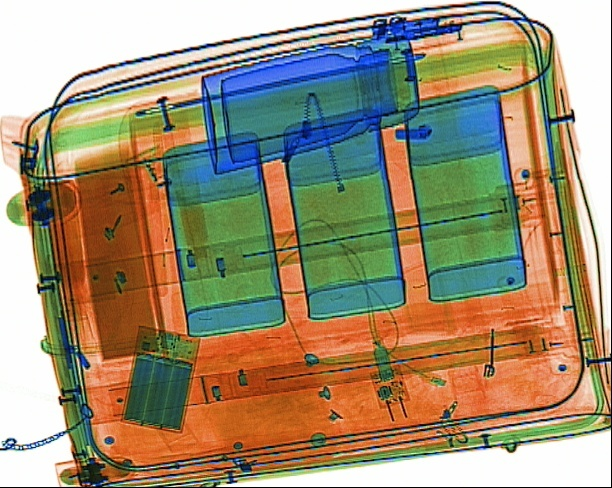powerbank: (117, 320, 199, 434)
